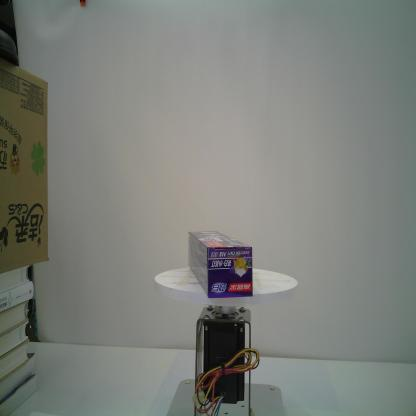Personal Hygiene: (188, 230, 253, 299)
